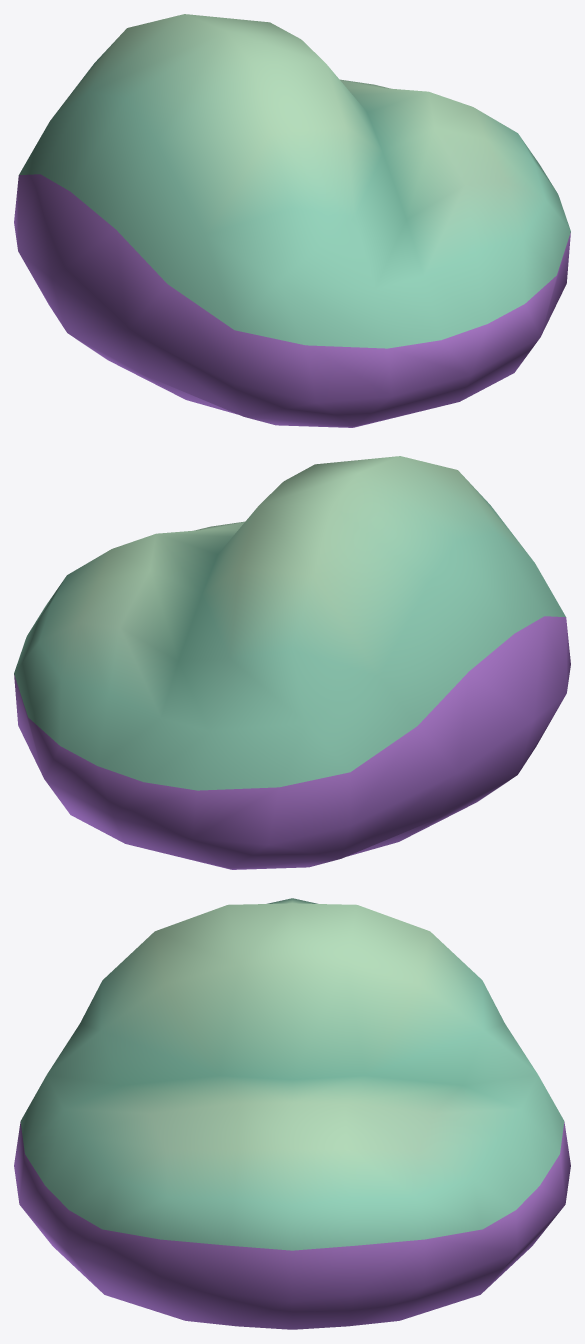
File: BeanBagChairGreen.glb
3 views of the same model, one above another, from view 1: azimuth 30°, elevation 25°; view 2: azimuth 150°, elevation 25°; view 3: azimuth 270°, elevation 25° (orthographic). The views are drawn at different scales.
Parts seen in each view (by area): view 1: BeanBagChairGreen; view 2: BeanBagChairGreen; view 3: BeanBagChairGreen.
Boxes of the visible parts, x1,y1,x2,y2 form: BeanBagChairGreen: (14,14,570,427); BeanBagChairGreen: (14,456,570,869); BeanBagChairGreen: (14,898,570,1329).
Size of the model in its own units: 0.8571 by 0.5596 by 0.8839.
